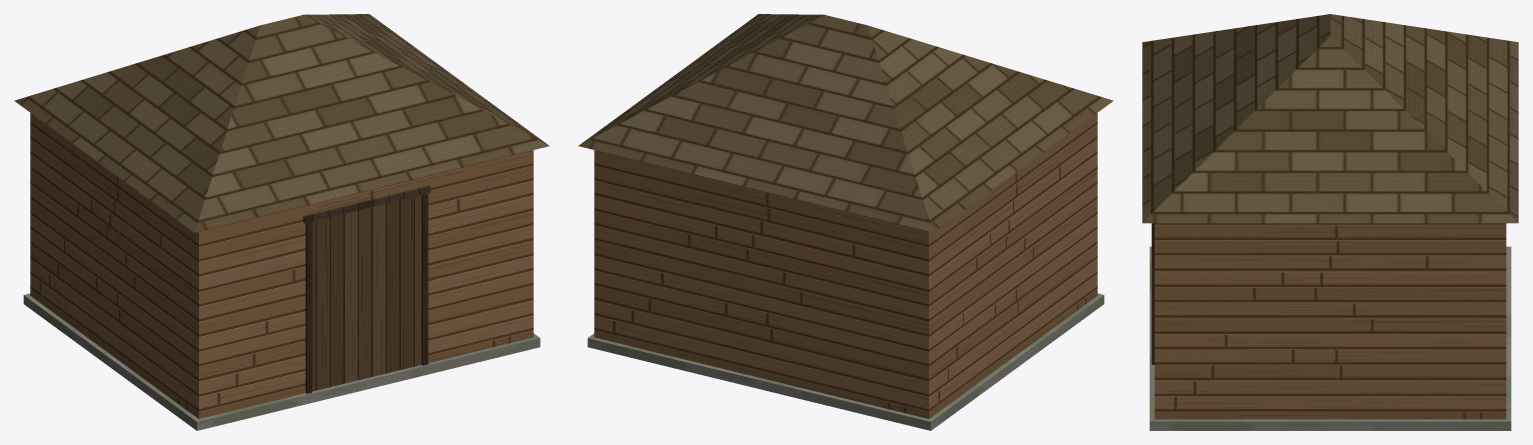
Rendered from house_booth.glb.
3 renders of one model, left to right at view 1: azimuth 30°, elevation 25°; view 2: azimuth 150°, elevation 25°; view 3: azimuth 270°, elevation 25°, orthographic. The views are drawn at different scales.
Visible parts, largest first — view 1: ae_forest_house_booth; view 2: ae_forest_house_booth; view 3: ae_forest_house_booth.
Part boxes in pixels (bbox=[...]): ae_forest_house_booth: bbox=[14, 14, 549, 430]; ae_forest_house_booth: bbox=[578, 14, 1113, 430]; ae_forest_house_booth: bbox=[1142, 14, 1518, 430].
Size of the model in its own units: 4.14 by 3.4 by 3.64.
1 material, 1 textured.
